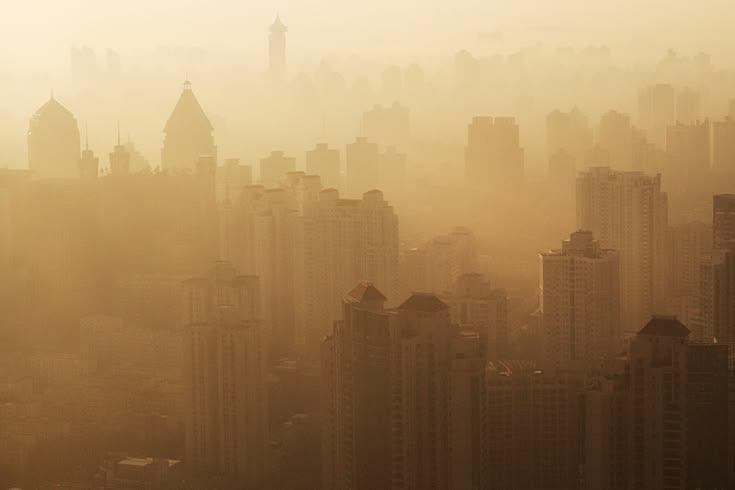Deteksi-Objek-Citra-Berasap: (0, 0, 735, 490)
Gedung: (178, 261, 264, 480), (393, 291, 485, 490), (337, 280, 402, 490), (576, 165, 665, 310), (538, 230, 622, 375), (629, 314, 691, 490), (282, 171, 331, 352), (326, 186, 371, 352), (159, 79, 217, 178), (465, 116, 526, 205), (418, 228, 481, 304), (28, 94, 80, 178), (359, 187, 401, 287), (450, 271, 508, 343), (94, 454, 183, 489), (345, 136, 380, 192), (306, 142, 340, 191), (711, 193, 734, 264), (267, 15, 289, 80), (109, 141, 146, 178), (259, 150, 295, 187)
